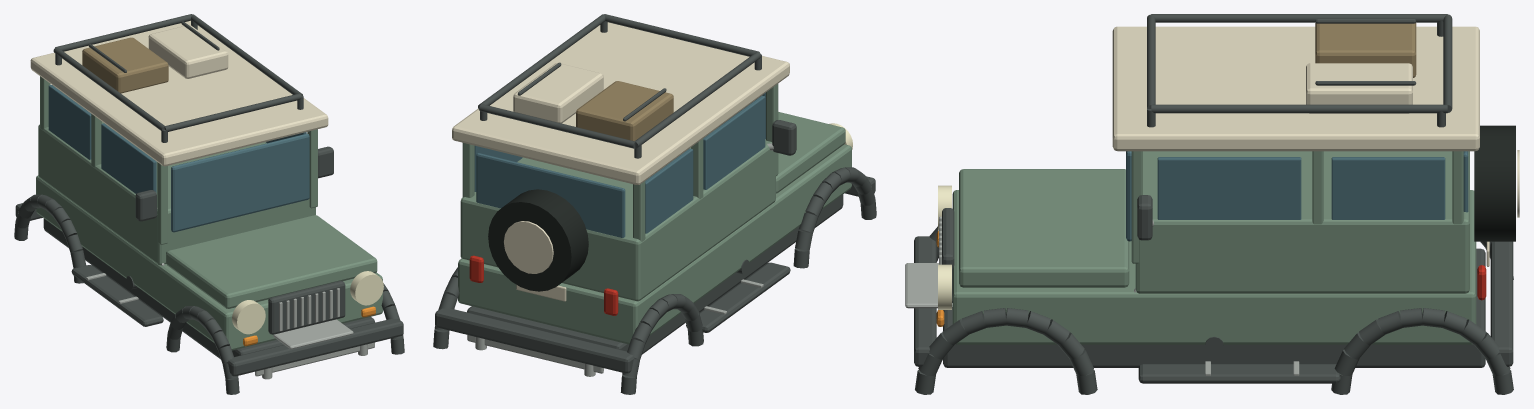
Rendered from wren.glb.
The picture shows the model from 3 angles, left to right: view 1: azimuth 30°, elevation 25°; view 2: azimuth 150°, elevation 25°; view 3: azimuth 270°, elevation 25°; orthographic projection. The views are drawn at different scales.
Parts seen in each view (by area): view 1: body; view 2: body; view 3: body.
Part boxes in pixels (x1,y1,x2,y2): body: (14, 14, 404, 394); body: (433, 14, 876, 394); body: (905, 14, 1519, 394).
Bounding box in the file's own units: 2.45 × 2.62 × 4.87.
